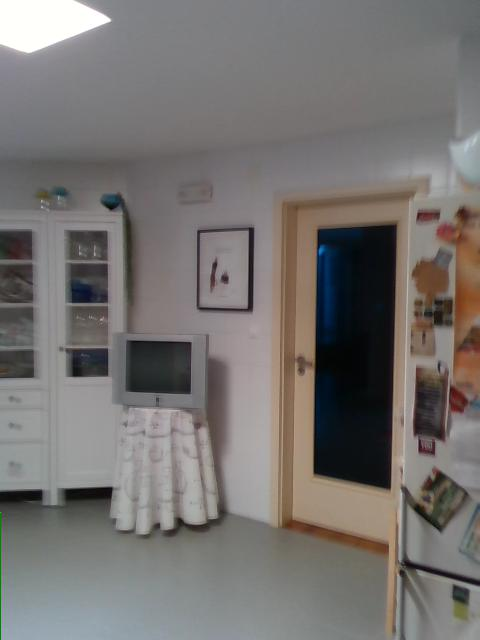door: (270, 177, 429, 550)
